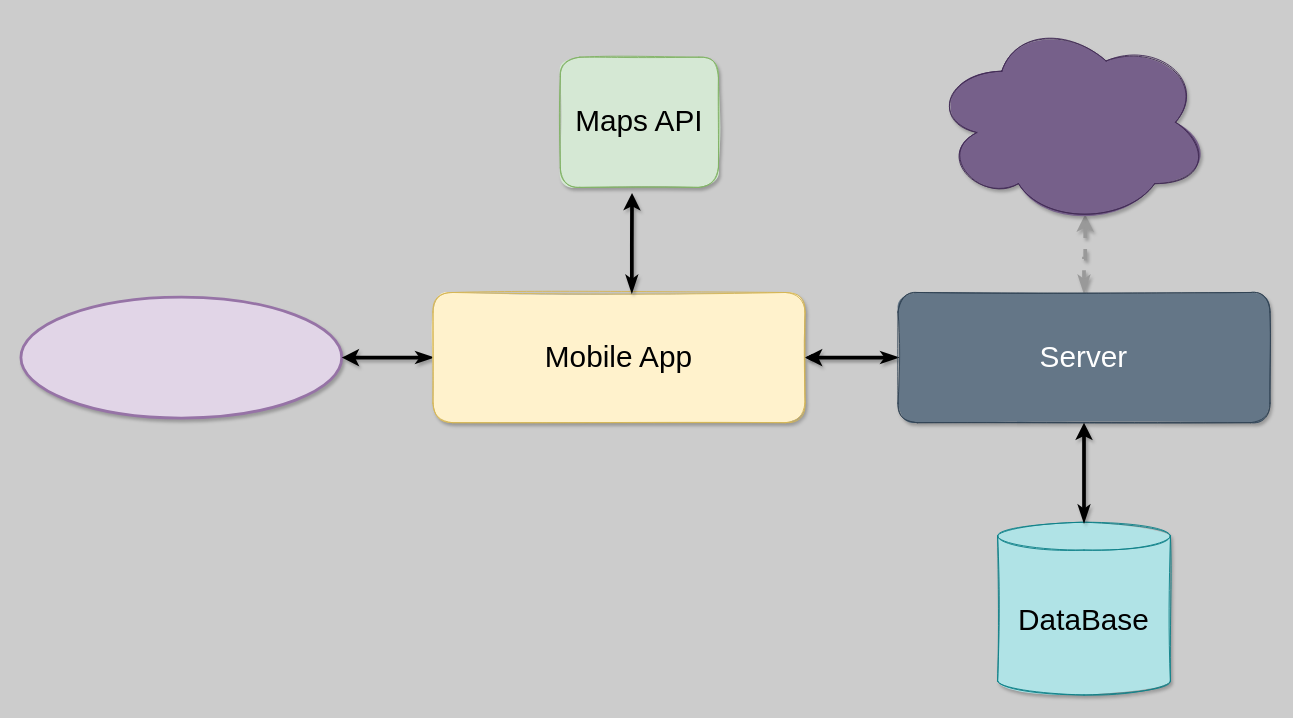
The diagram is 1293 pixels wide and 718 high, and some of its shapes have lost their labels. Each missing label, with the centre of its shape:
Photo storage service: [1072,123]
User: [181,358]
